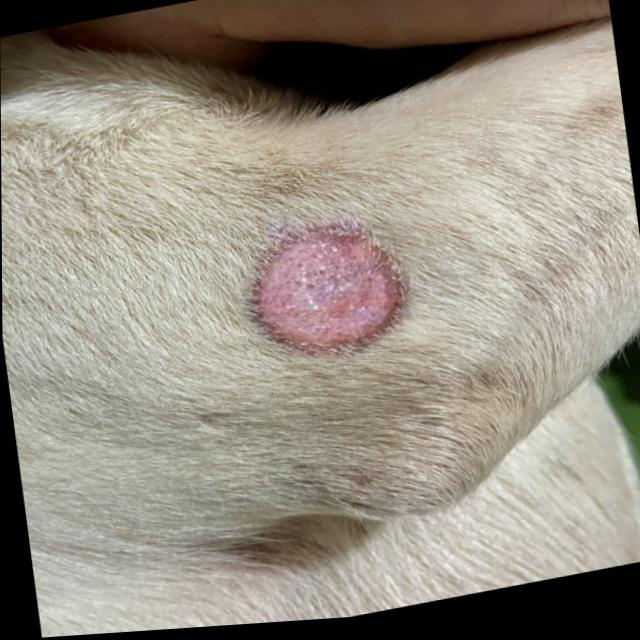ringworm: (203, 205, 444, 391)
